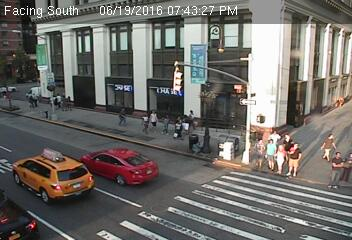neg: (12, 105, 41, 145), (151, 181, 174, 212), (24, 168, 47, 199), (314, 76, 337, 107), (183, 46, 206, 76), (283, 47, 305, 76), (57, 136, 77, 164), (219, 189, 239, 216), (185, 131, 205, 157), (127, 44, 147, 70), (241, 84, 259, 109), (295, 203, 312, 226), (216, 134, 232, 156), (104, 164, 119, 185), (96, 46, 110, 63), (50, 58, 63, 76)
pos: (325, 151, 351, 186), (284, 141, 310, 175), (246, 137, 268, 165), (320, 130, 339, 156), (264, 138, 283, 164), (159, 113, 175, 134), (141, 113, 156, 133), (116, 107, 130, 126)
